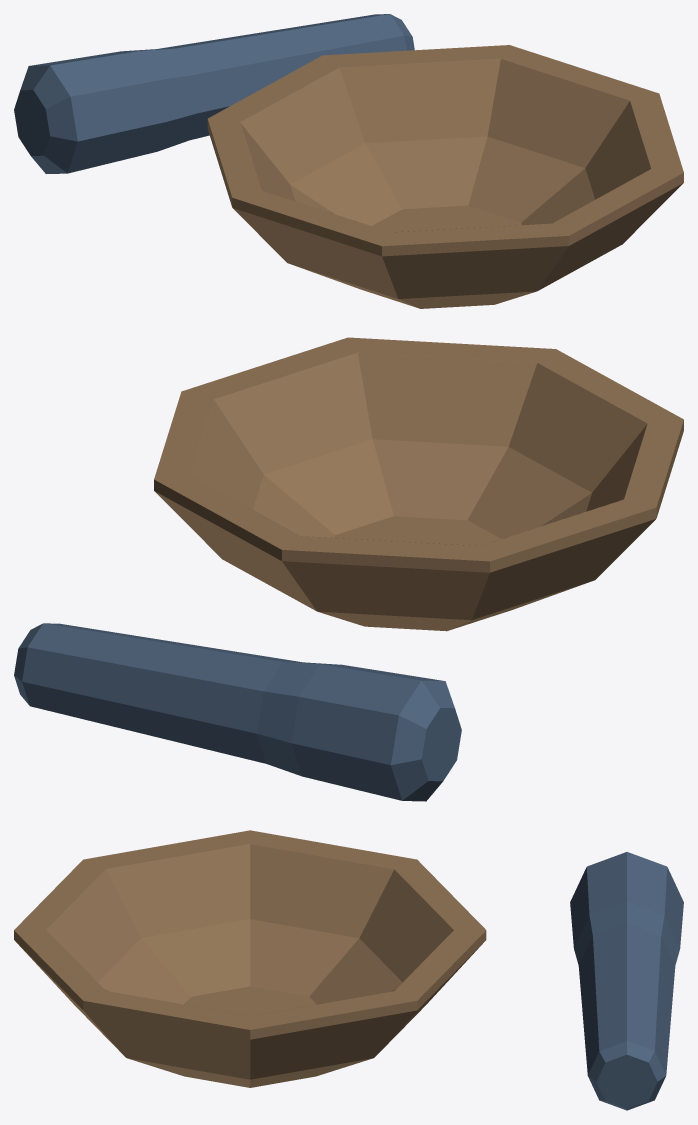
Rendered from mortar and pestle NYOBA OUTLINE.fbx.
3 renders of one model, top to bottom at view 1: azimuth 30°, elevation 25°; view 2: azimuth 150°, elevation 25°; view 3: azimuth 270°, elevation 25°, orthographic. The views are drawn at different scales.
Visible parts, largest first — view 1: mortar; view 2: mortar; view 3: mortar.
Part boxes in pixels (x1,y1,x2,y2): mortar: (14,14,683,308); mortar: (14,337,683,801); mortar: (14,830,683,1110).
Size of the model in its own units: 45.85 by 12.54 by 64.27.
